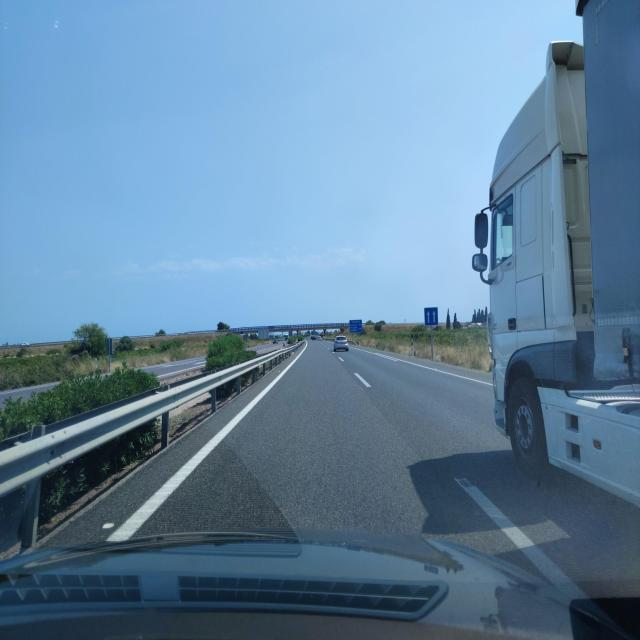car: (333, 334, 349, 352)
